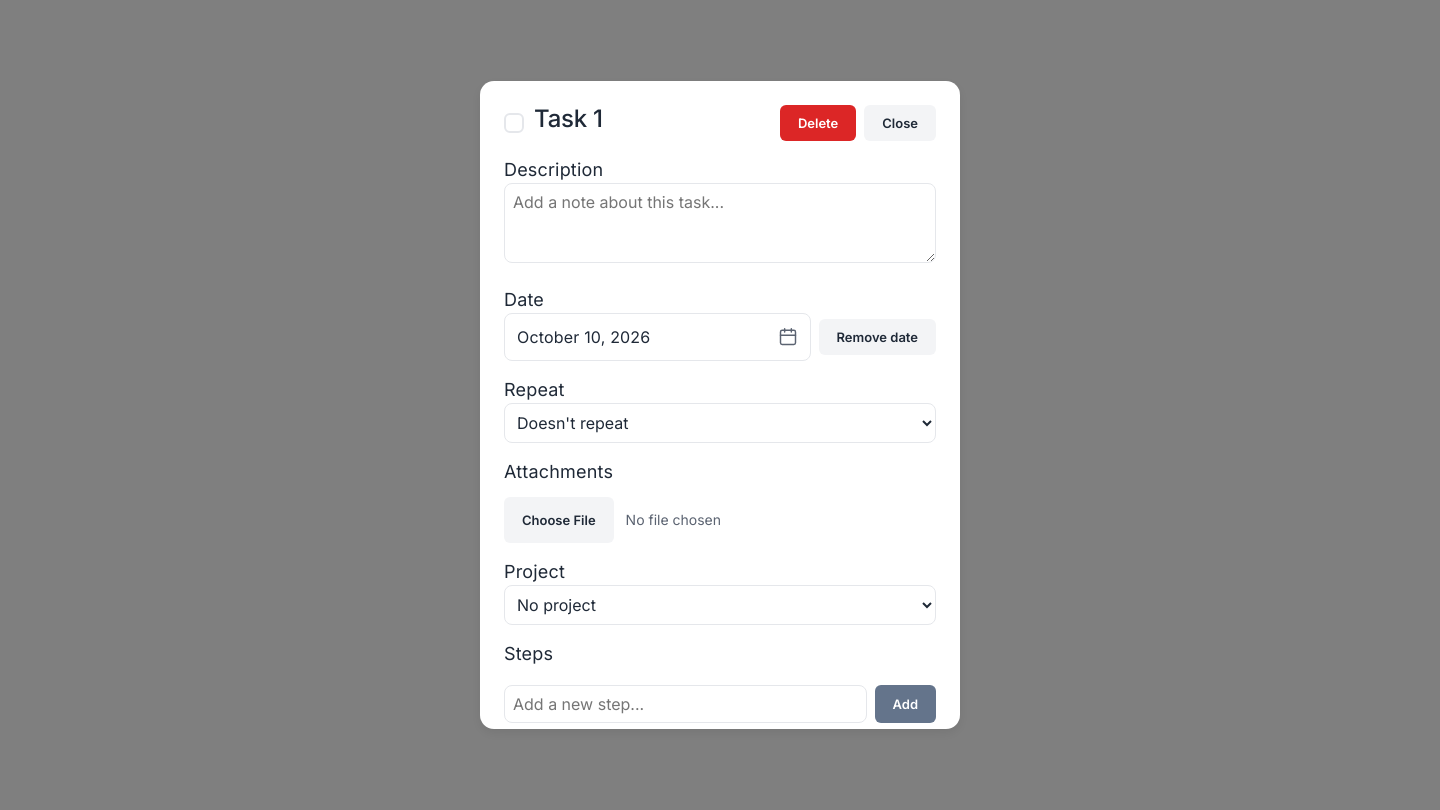
TaskDetailModal delete confirmation › asks for confirmation before deleting
Click the button with aria-label "Delete task" at (818, 123), box [780,105,856,141]
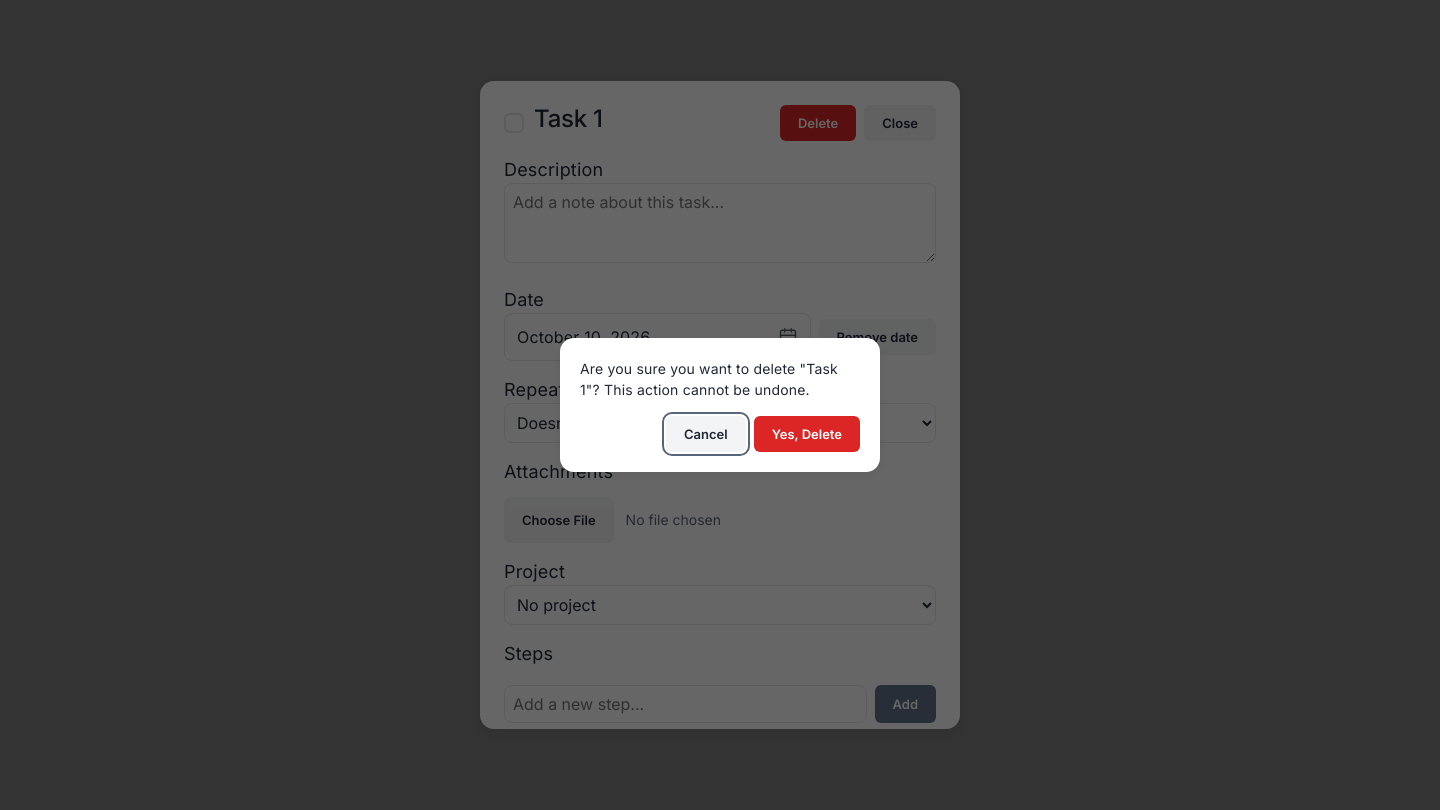
Result: the dialog "delete \"Task 1\"" is shown at [560,338,880,472]
